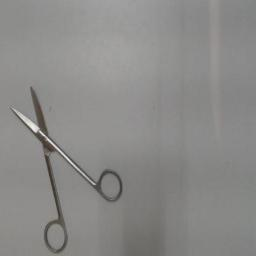Curved Mayo Scissors: (7, 81, 127, 255)
